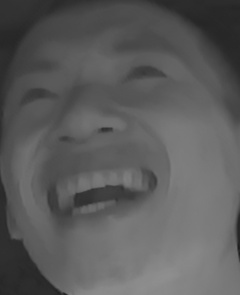eye: (119, 59, 172, 89), (17, 80, 58, 110)
mouth: (39, 149, 161, 227)
